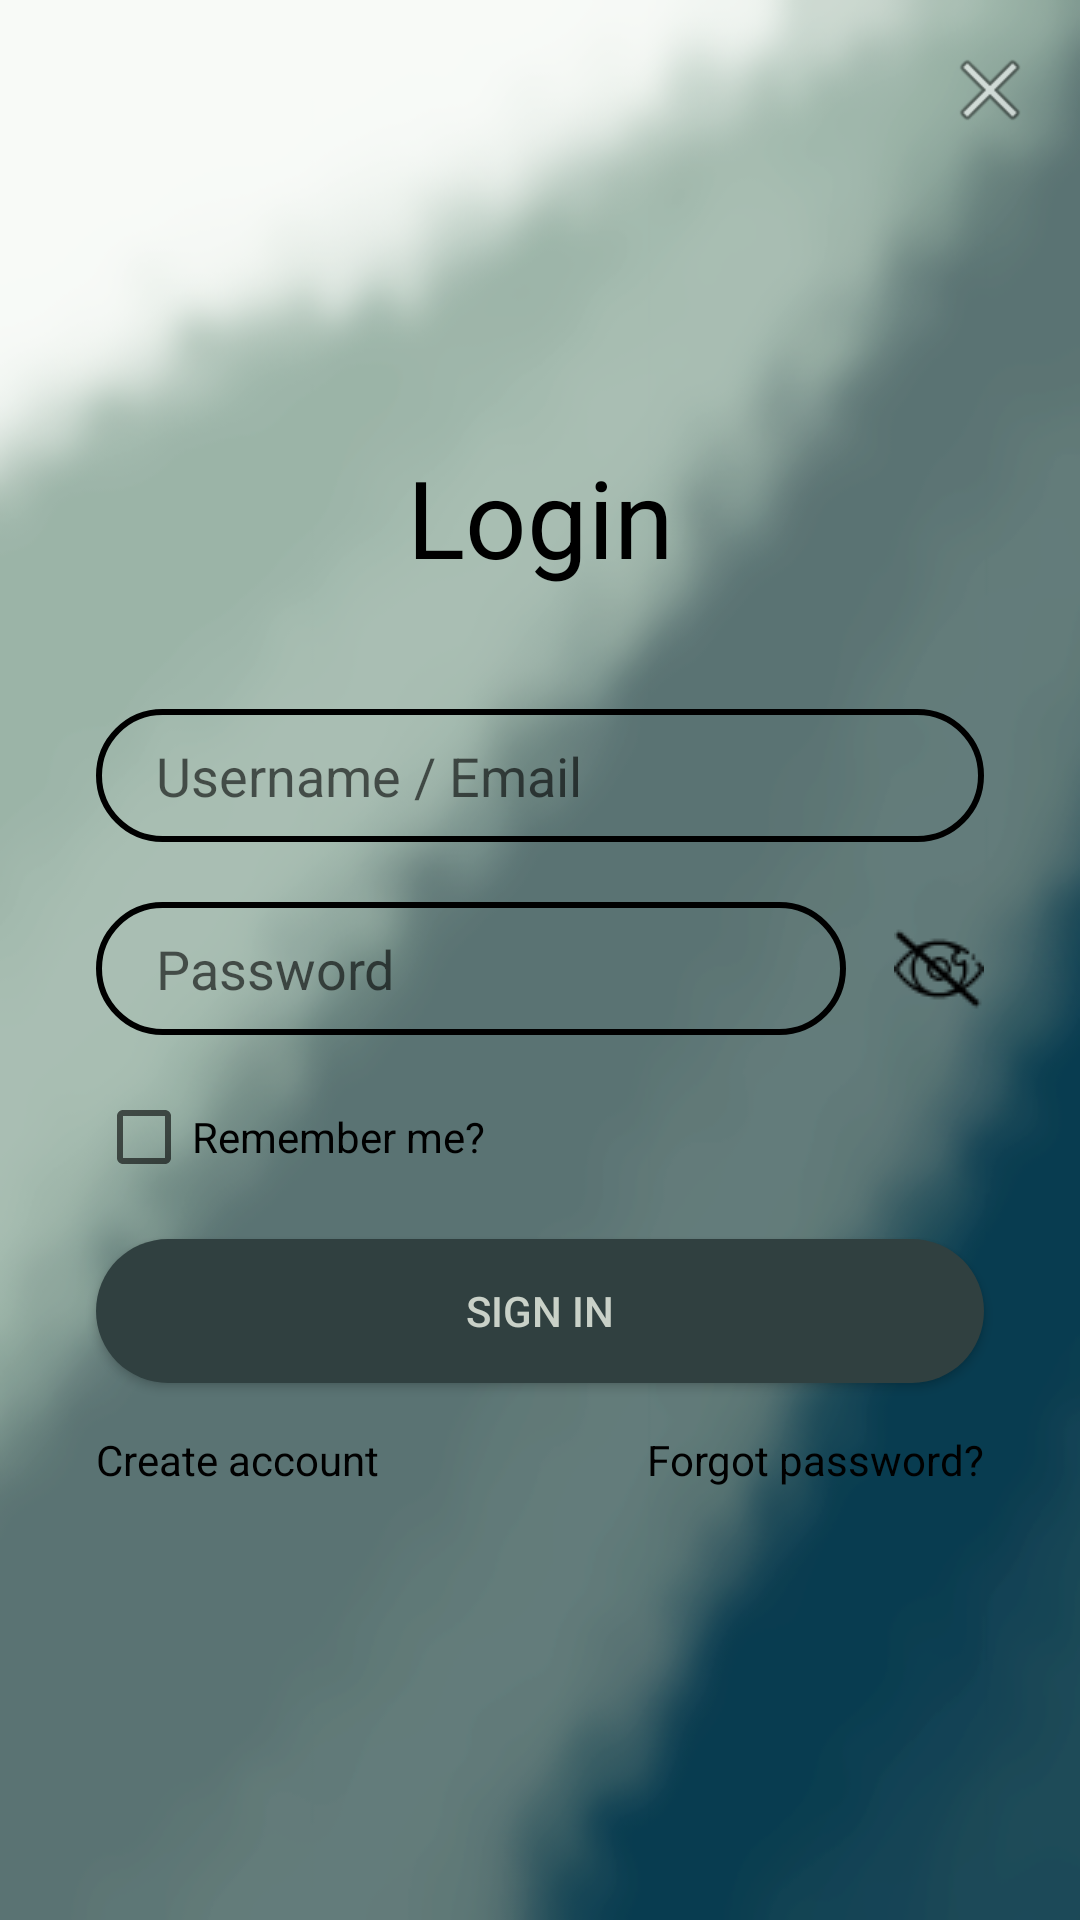

Screen size 1080 x 1920. Icon name, then its center in pixels as (x=x, y=y):
close clear cancel: (x=990, y=90)
no eye: (x=939, y=970)
